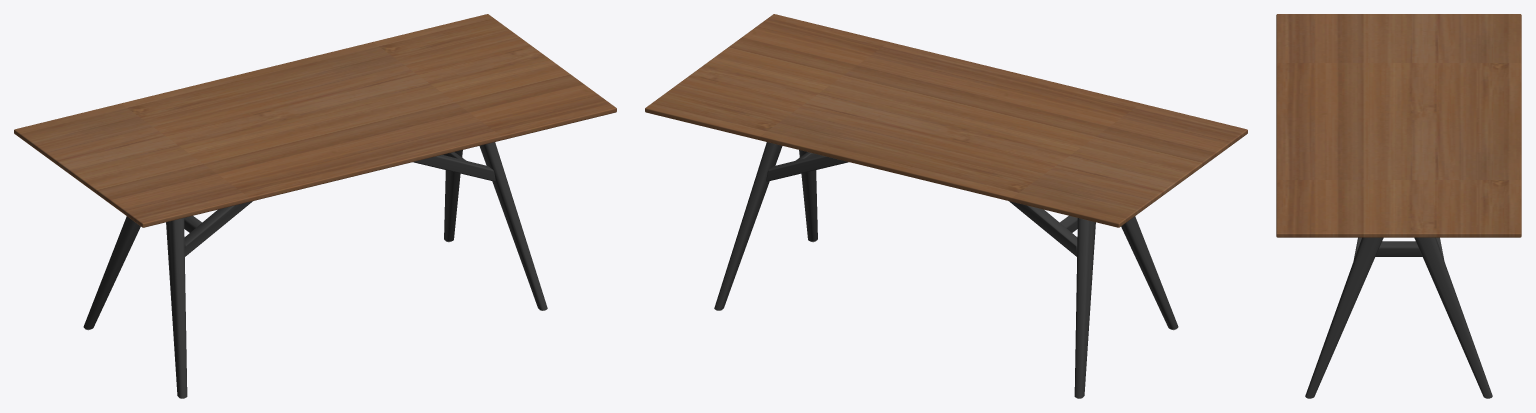
Rendered from table1.glb.
3 renders of one model, left to right at view 1: azimuth 30°, elevation 25°; view 2: azimuth 150°, elevation 25°; view 3: azimuth 270°, elevation 25°, orthographic. The views are drawn at different scales.
Visible parts, largest first — view 1: SM_Modern_Table; view 2: SM_Modern_Table; view 3: SM_Modern_Table.
Boxes of the visible parts, x1,y1,x2,y2 form: SM_Modern_Table: (14,14,616,398); SM_Modern_Table: (645,14,1247,398); SM_Modern_Table: (1276,14,1521,398).
Size of the model in its own units: 1.93 by 0.7798 by 0.9094.
3 materials, 1 textured.
